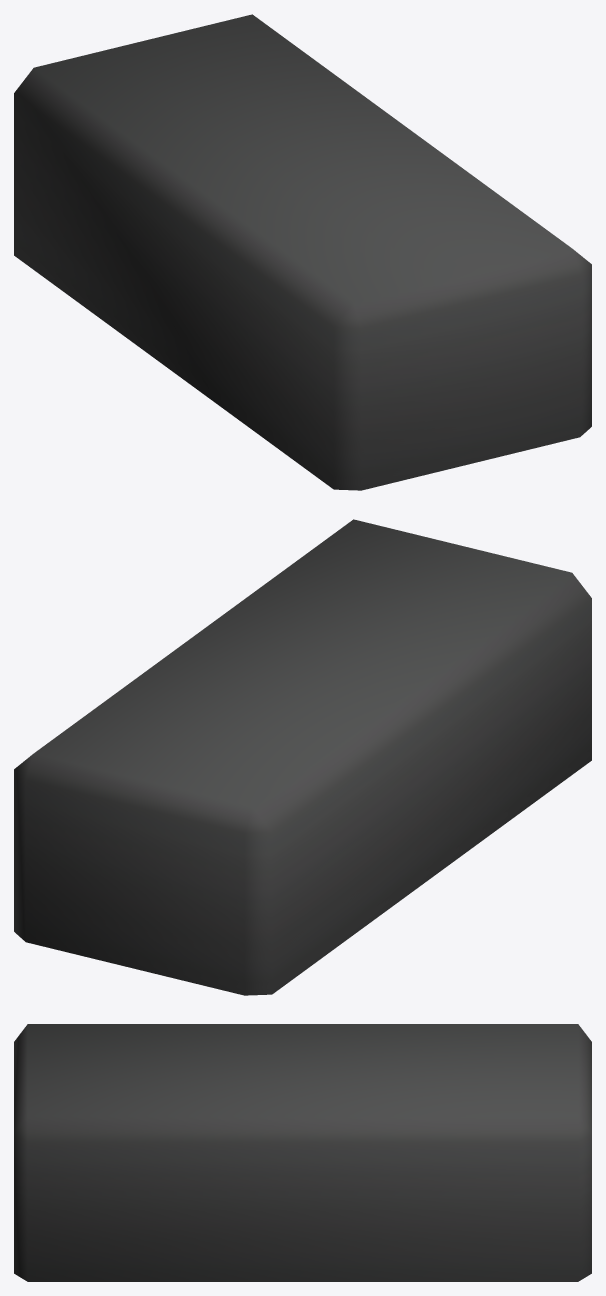
Rendered from FBlock_1_2.glb.
3 renders of one model, top to bottom at view 1: azimuth 30°, elevation 25°; view 2: azimuth 150°, elevation 25°; view 3: azimuth 270°, elevation 25°, orthographic. The views are drawn at different scales.
Visible parts, largest first — view 1: FBlock_1_2; view 2: FBlock_1_2; view 3: FBlock_1_2.
Boxes of the visible parts, x1,y1,x2,y2 form: FBlock_1_2: (14, 14, 591, 490); FBlock_1_2: (14, 519, 591, 995); FBlock_1_2: (14, 1024, 591, 1281).
Size of the model in its own units: 0.4327 by 0.2931 by 0.9745.
1 material, 1 textured.
